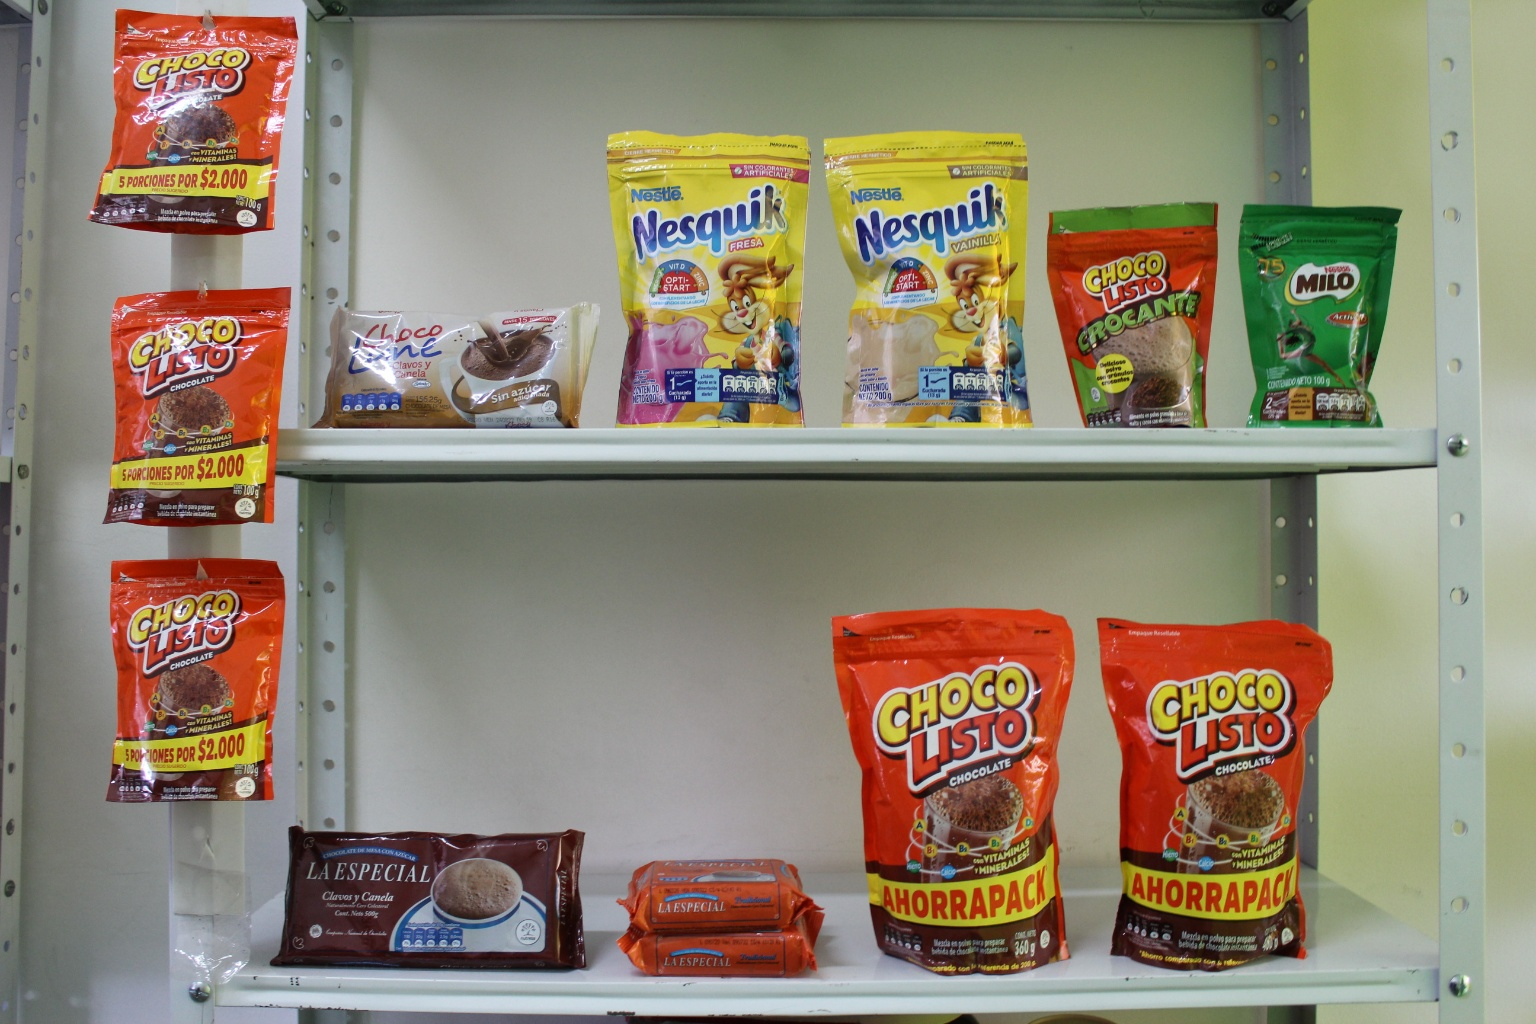COL0170102DYP10000: (1056, 189, 1230, 430)
COL0170103DYP10000: (81, 7, 315, 238)
COL0170103DYP36000: (818, 587, 1088, 975)
COL0170103DYP40000: (1083, 584, 1344, 982)
COL0170203DYP10000: (1226, 195, 1407, 434)
COL0170305DYP20000: (601, 121, 824, 432)
COL0170306DYP20000: (824, 123, 1040, 427)
